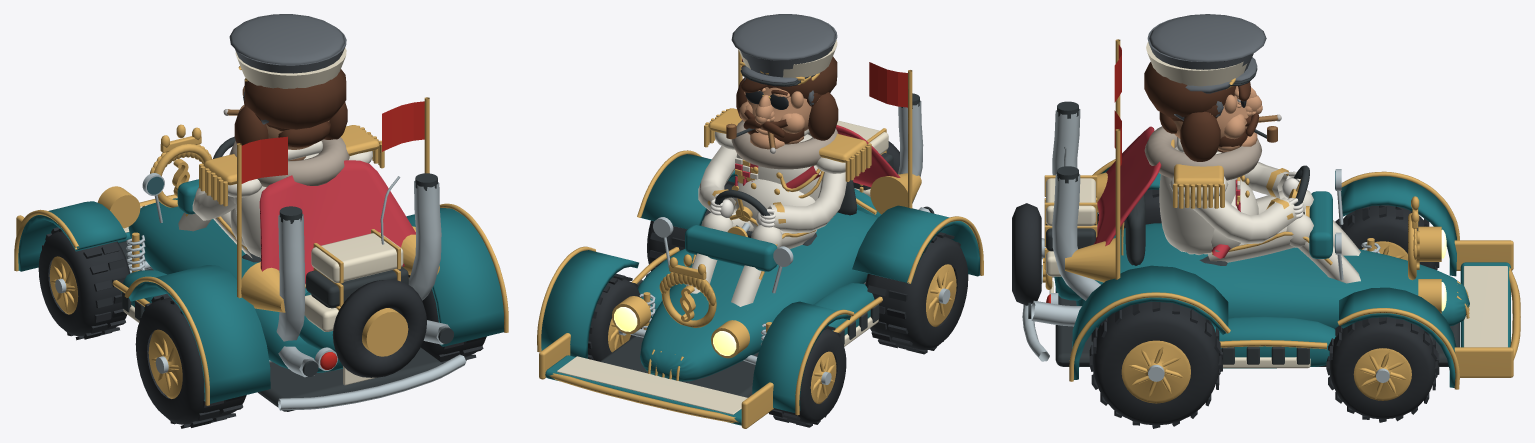
File: hero-kart.glb
3 renders of one model, left to right at view 1: azimuth 30°, elevation 25°; view 2: azimuth 150°, elevation 25°; view 3: azimuth 270°, elevation 25°, orthographic. The views are drawn at different scales.
Parts seen in each view (by area): view 1: hero-kart / Petrol enamel, scarfFlap / Cape cloth, hero-kart / Brushed champagne brass, wheelSpin-0 / Tire rubber, wheelSpin-2 / Tire rubber, variant-fin / Polished steel, variant-spare / Tire rubber, cast-peaked / Hat cloth, cast-diva / Hair and leather helmet, hero-kart / Polished steel, hero-kart / Dark leather, variant-luggage / Ivory enamel (+16 smaller); view 2: hero-kart / Petrol enamel, hero-kart / Brushed champagne brass, wheelSpin-2 / Tire rubber, driverPose / Uniform racing suit, cast-peaked / Hat cloth, hero-kart / Ivory enamel, hero-kart / Dark leather, wheelSpin-0 / Tire rubber, armPose-L / Uniform racing suit, cast-diva / Hair and leather helmet, cast-furcollar / Fur trim, cast-epaulettes / Brushed champagne brass (+19 smaller); view 3: hero-kart / Petrol enamel, hero-kart / Brushed champagne brass, wheelSpin-3 / Tire rubber, wheelSpin-1 / Tire rubber, driverPose / Uniform racing suit, cast-peaked / Hat cloth, hero-kart / Ivory enamel, variant-fin / Polished steel, cast-diva / Hair and leather helmet, hero-kart / Dark leather, scarfFlap / Cape cloth, wheelSpin-3 / Brushed champagne brass (+18 smaller).
Boxes of the visible parts, bbox=[...] form: hero-kart / Petrol enamel: bbox=[18, 179, 503, 403]; scarfFlap / Cape cloth: bbox=[259, 160, 415, 284]; hero-kart / Brushed champagne brass: bbox=[14, 124, 508, 405]; wheelSpin-0 / Tire rubber: bbox=[38, 227, 130, 340]; wheelSpin-2 / Tire rubber: bbox=[135, 293, 246, 428]; variant-fin / Polished steel: bbox=[276, 181, 441, 341]; variant-spare / Tire rubber: bbox=[332, 279, 426, 377]; cast-peaked / Hat cloth: bbox=[229, 14, 346, 73]; cast-diva / Hair and leather helmet: bbox=[234, 69, 347, 145]; hero-kart / Polished steel: bbox=[126, 173, 466, 410]; hero-kart / Dark leather: bbox=[119, 241, 453, 411]; variant-luggage / Ivory enamel: bbox=[304, 232, 403, 331]; hero-kart / Petrol enamel: bbox=[541, 154, 980, 425]; hero-kart / Brushed champagne brass: bbox=[537, 150, 983, 428]; wheelSpin-2 / Tire rubber: bbox=[865, 232, 968, 354]; driverPose / Uniform racing suit: bbox=[686, 131, 845, 306]; cast-peaked / Hat cloth: bbox=[731, 14, 837, 78]; hero-kart / Ivory enamel: bbox=[557, 316, 878, 414]; hero-kart / Dark leather: bbox=[600, 180, 934, 397]; wheelSpin-0 / Tire rubber: bbox=[769, 325, 846, 427]; armPose-L / Uniform racing suit: bbox=[767, 172, 846, 232]; cast-diva / Hair and leather helmet: bbox=[736, 56, 838, 140]; cast-furcollar / Fur trim: bbox=[731, 120, 838, 169]; cast-epaulettes / Brushed champagne brass: bbox=[704, 108, 871, 181]; hero-kart / Petrol enamel: bbox=[1054, 167, 1510, 387]; hero-kart / Brushed champagne brass: bbox=[1043, 159, 1520, 389]; wheelSpin-3 / Tire rubber: bbox=[1089, 301, 1222, 428]; wheelSpin-1 / Tire rubber: bbox=[1326, 317, 1439, 422]; driverPose / Uniform racing suit: bbox=[1159, 146, 1360, 283]; cast-peaked / Hat cloth: bbox=[1147, 14, 1266, 72]; hero-kart / Ivory enamel: bbox=[1049, 208, 1507, 368]; variant-fin / Polished steel: bbox=[1052, 109, 1100, 300]; cast-diva / Hair and leather helmet: bbox=[1144, 62, 1236, 161]; hero-kart / Dark leather: bbox=[1028, 195, 1459, 366]; scarfFlap / Cape cloth: bbox=[1093, 126, 1161, 246]; wheelSpin-3 / Brushed champagne brass: bbox=[1121, 340, 1190, 403].
Size of the model in its own units: 2.36 by 2.47 by 3.46.
